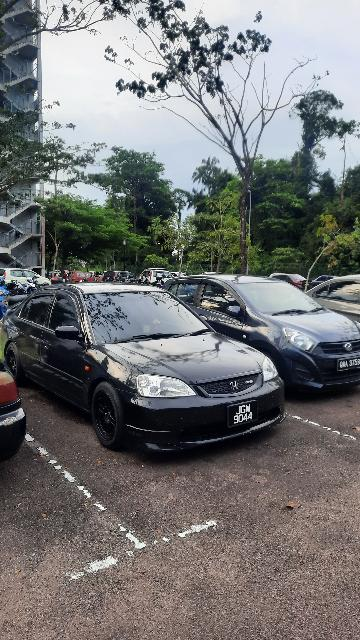License_Plate: (225, 398, 268, 428), (338, 358, 360, 373)
car: (3, 283, 293, 461), (160, 266, 360, 402)
